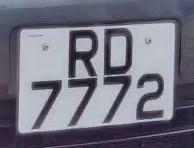2: (132, 66, 170, 124)
7: (63, 78, 104, 129), (27, 75, 65, 130), (100, 73, 136, 128)
D: (99, 21, 137, 78)
R: (64, 26, 104, 80)
